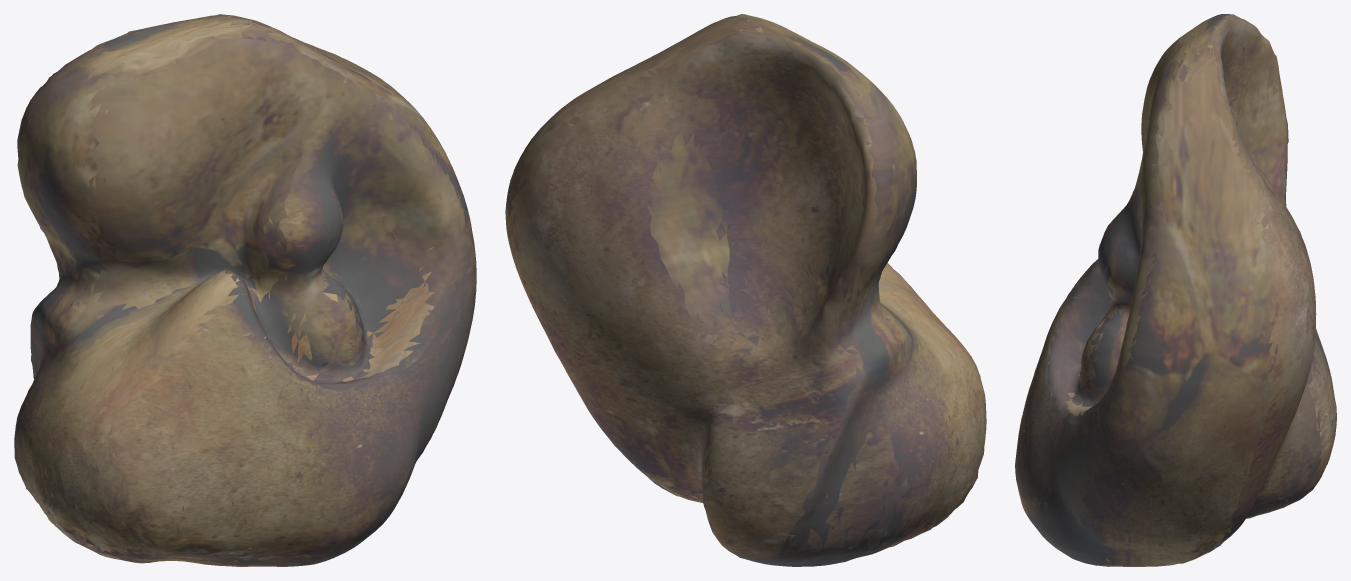
Rendered from escultura-esc-015.glb.
3 views of the same model, side by side, from view 1: azimuth 30°, elevation 25°; view 2: azimuth 150°, elevation 25°; view 3: azimuth 270°, elevation 25° (orthographic). The views are drawn at different scales.
Parts seen in each view (by area): view 1: world; view 2: world; view 3: world.
Part boxes in pixels (x1,y1,x2,y2): world: (14, 14, 476, 566); world: (505, 14, 986, 566); world: (1015, 14, 1336, 566).
Size of the model in its own units: 0.8578 by 0.96 by 0.576.
Materials: 1 (1 with a texture image).
